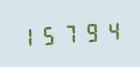five: (39, 22, 59, 47)
four: (102, 17, 122, 43)
nine: (81, 19, 101, 44)
one: (18, 23, 38, 49)
seven: (60, 20, 80, 46)
